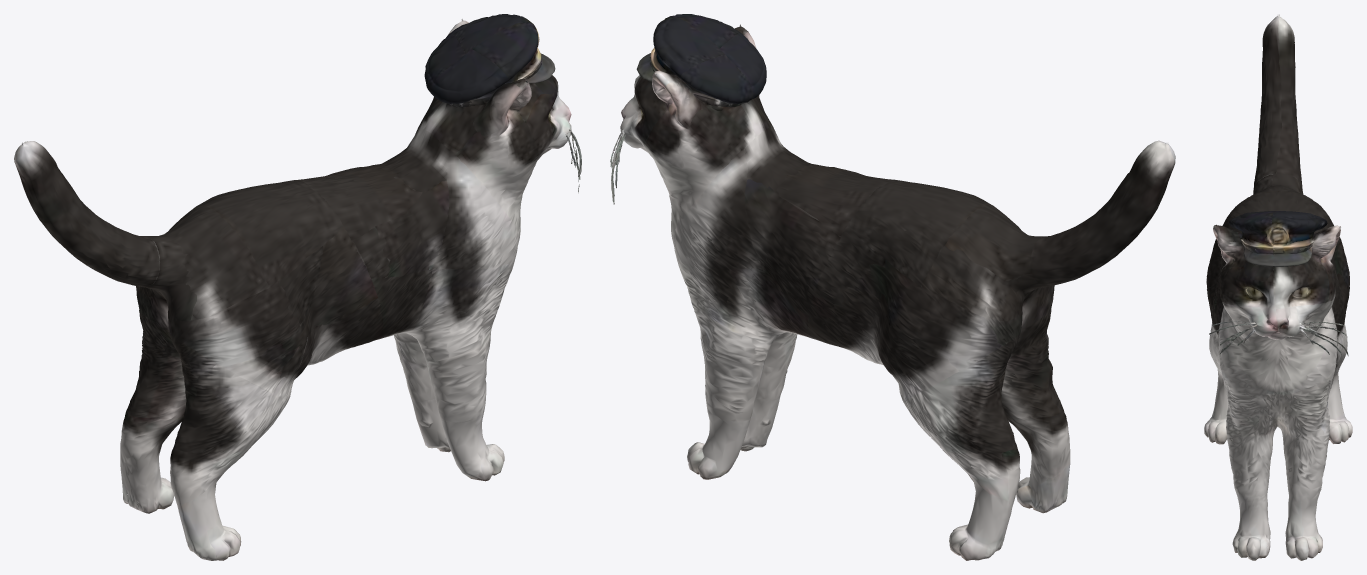
File: YONTAMACAT.glb
The picture shows the model from 3 angles, left to right: view 1: azimuth 30°, elevation 25°; view 2: azimuth 150°, elevation 25°; view 3: azimuth 270°, elevation 25°; orthographic projection. The views are drawn at different scales.
Visible parts, largest first — view 1: tripo_node_832813d1-4978-46f8-9f68-ecfb71ab4b23; view 2: tripo_node_832813d1-4978-46f8-9f68-ecfb71ab4b23; view 3: tripo_node_832813d1-4978-46f8-9f68-ecfb71ab4b23.
Boxes of the visible parts, bbox=[...] form: tripo_node_832813d1-4978-46f8-9f68-ecfb71ab4b23: bbox=[14, 14, 581, 560]; tripo_node_832813d1-4978-46f8-9f68-ecfb71ab4b23: bbox=[610, 14, 1175, 560]; tripo_node_832813d1-4978-46f8-9f68-ecfb71ab4b23: bbox=[1204, 14, 1352, 560].
Bounding box in the file's own units: 1.34 × 0.9984 × 0.3732.
1 material, 1 textured.
